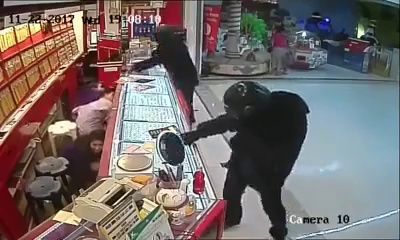helmet: (221, 78, 272, 122), (151, 24, 170, 40)
